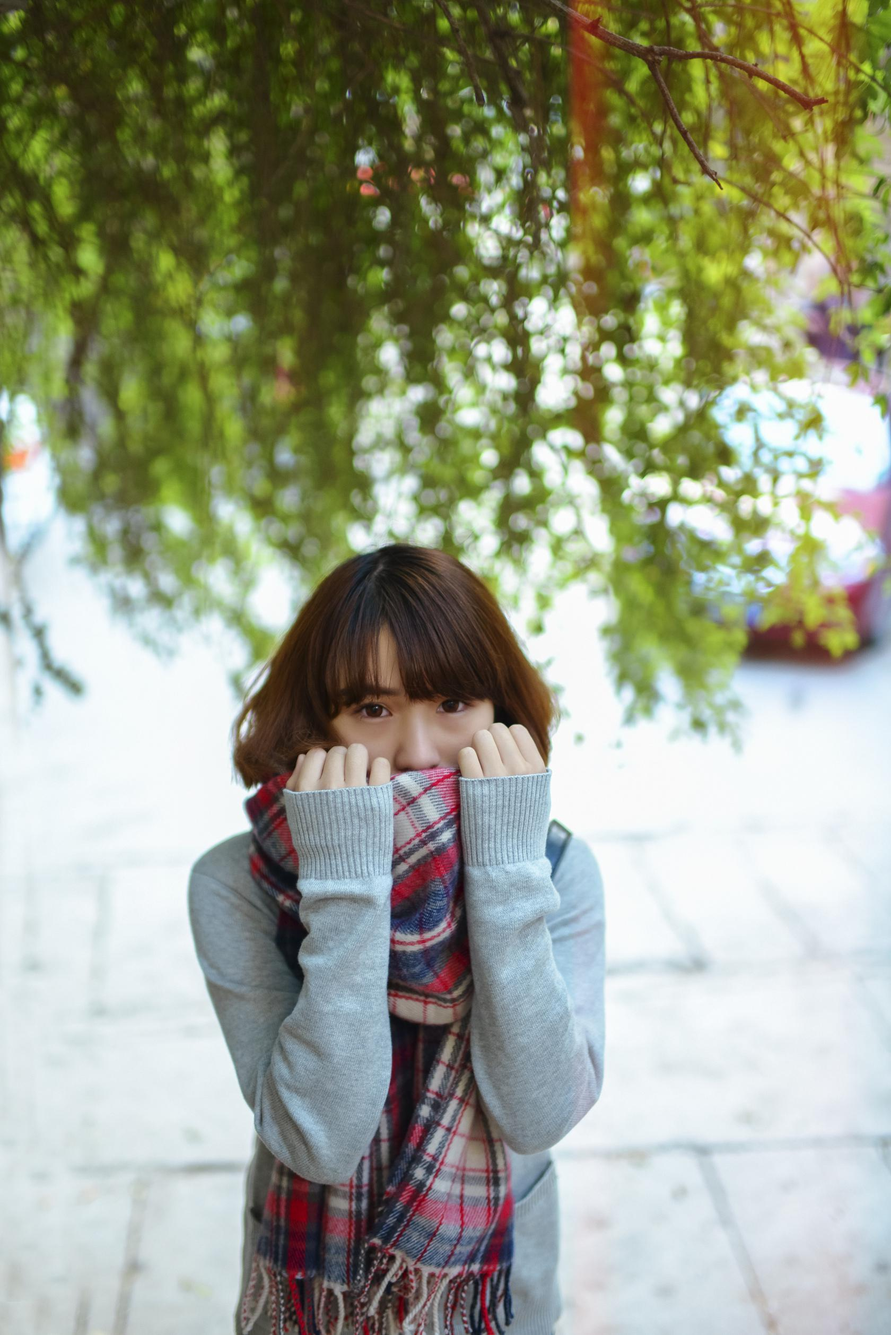WRONG: (322, 666, 504, 848)
